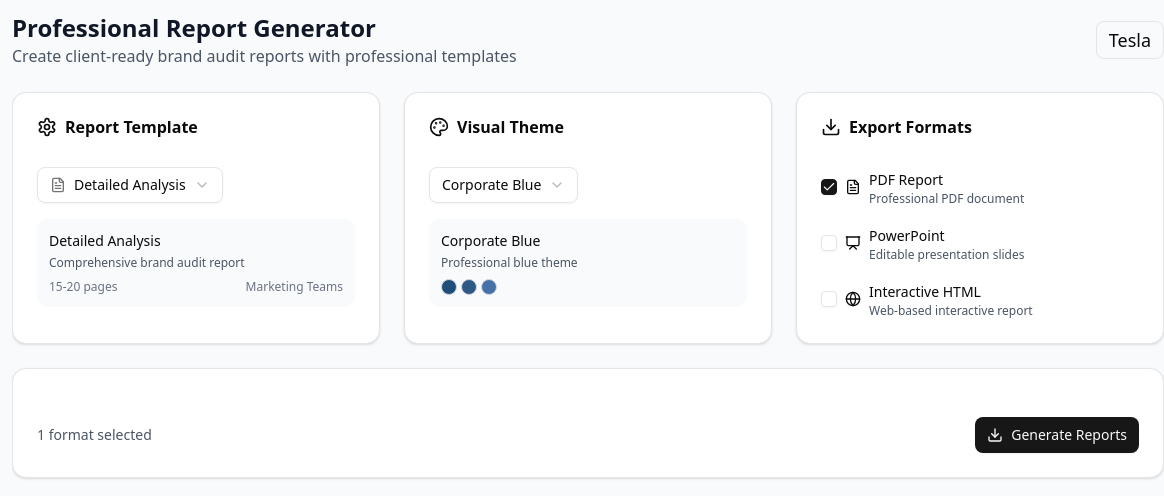
Test case: ReportGenerator › allows format selection changes
Check: the checkbox named "PDF Report" next to "PDF Report" is checked, box [821,179,837,195]
Select PowerPoint
Click the checkbox named "PowerPoint" next to "PowerPoint".
click(829, 243)  # box [821,235,837,251]
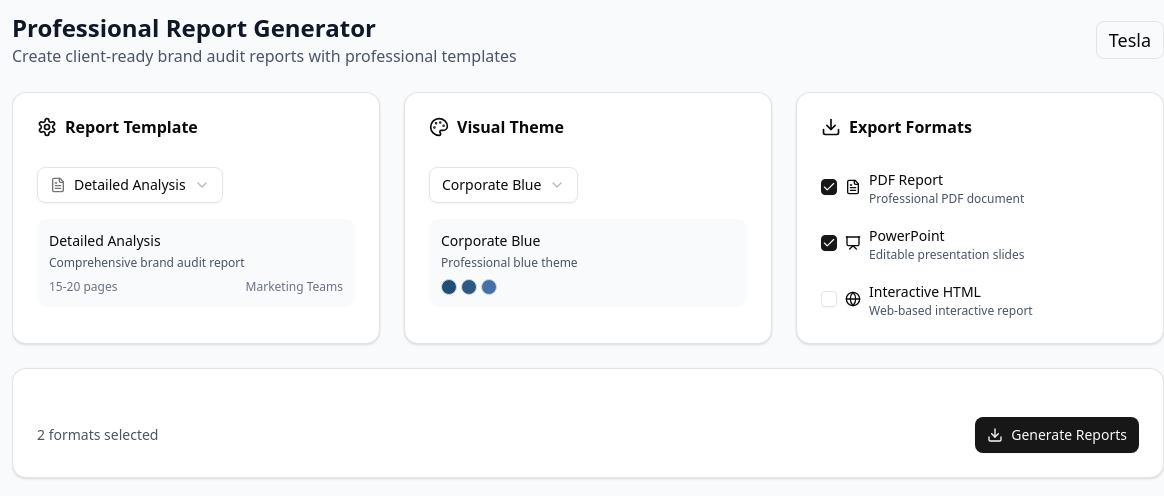
Check: the checkbox named "PowerPoint" next to "PowerPoint" is checked, box [821,235,837,251]
Check: the text "2 formats selected" is shown, box [37,425,158,445]
